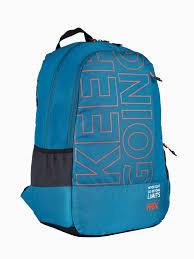backpack: (20, 27, 176, 237)
